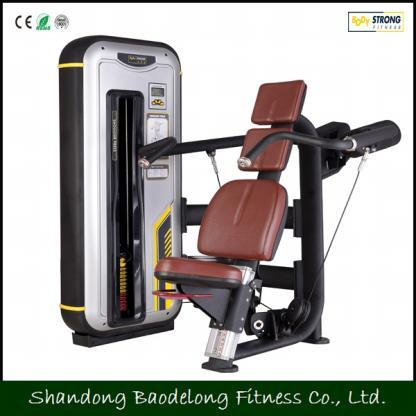shoulder press machine: (57, 38, 399, 370)
